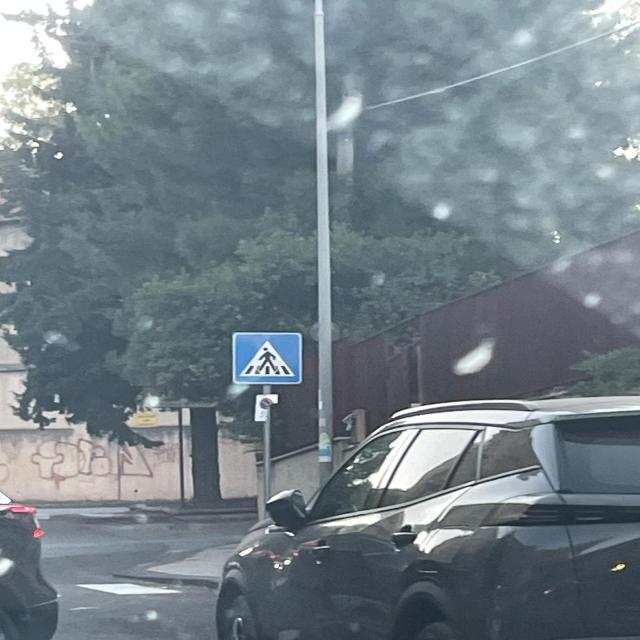info_crosswalk: (233, 330, 304, 385)
